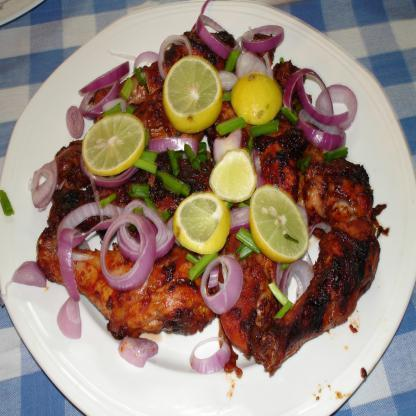lemon: (162, 56, 223, 132), (249, 185, 308, 262), (82, 112, 145, 176), (172, 192, 230, 254), (231, 72, 282, 125)
